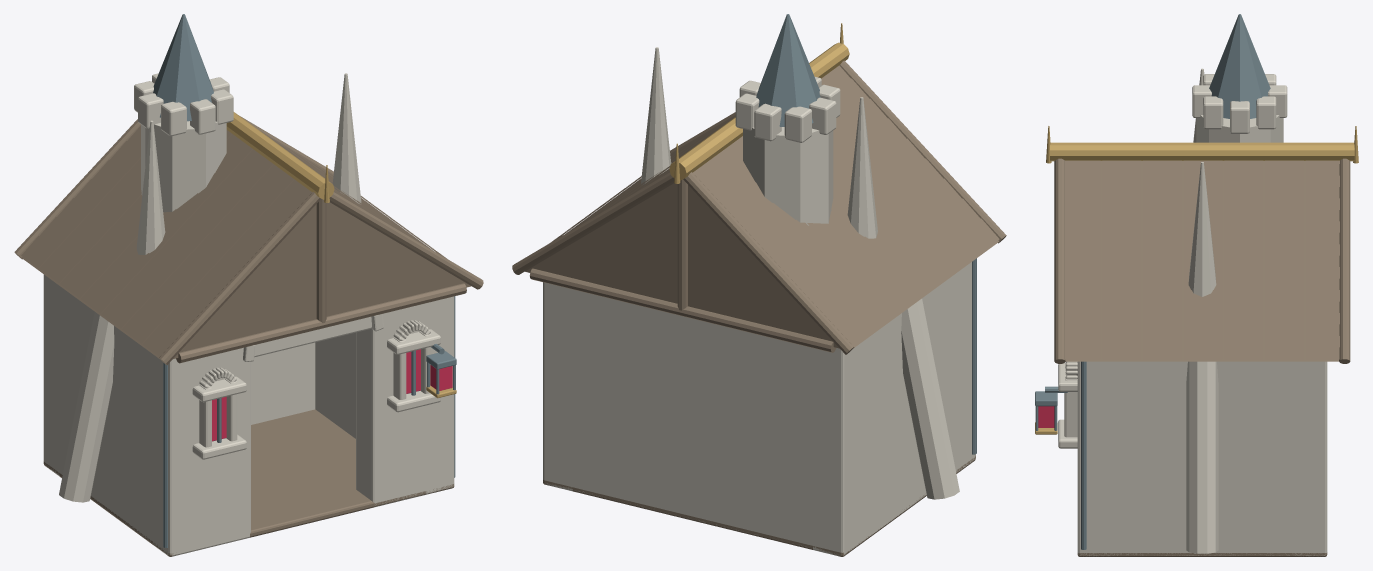
File: a6_service_0.glb
The picture shows the model from 3 angles, left to right: view 1: azimuth 30°, elevation 25°; view 2: azimuth 150°, elevation 25°; view 3: azimuth 270°, elevation 25°; orthographic projection. The views are drawn at different scales.
Parts seen in each view (by area): view 1: Roof.024, Side.024, Front.024, Body.060; view 2: Roof.024, Body.060, Side.024, Front.024; view 3: Roof.024, Side.024, Body.060, Front.024.
Part boxes in pixels (box(x1,y1,x2,y2)): Roof.024: box(14, 14, 483, 364); Side.024: box(44, 277, 455, 556); Front.024: box(153, 297, 456, 556); Body.060: box(43, 274, 454, 556); Roof.024: box(512, 14, 1006, 354); Body.060: box(543, 282, 975, 556); Side.024: box(544, 258, 976, 555); Front.024: box(959, 262, 975, 470); Roof.024: box(1046, 14, 1358, 363); Side.024: box(1077, 361, 1324, 555); Body.060: box(1077, 361, 1327, 556); Front.024: box(1035, 361, 1110, 556).
Bounding box in the file's own units: 3.42 × 4 × 2.59.
